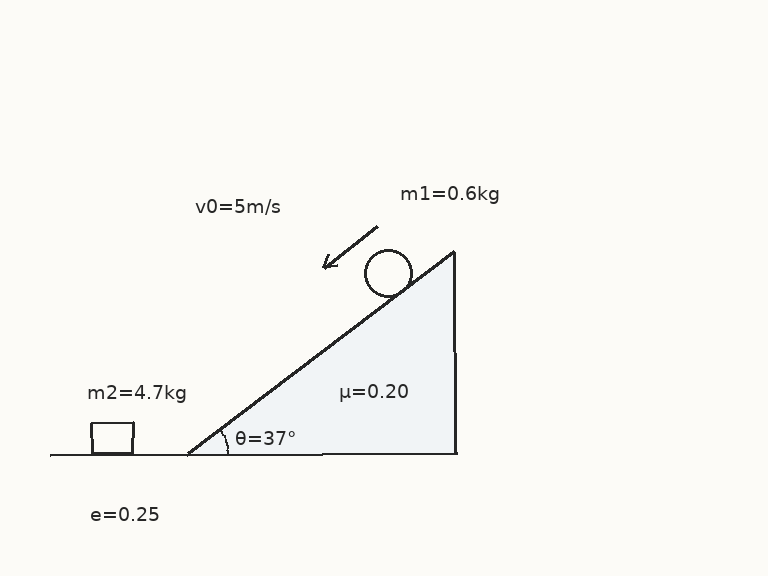ball: (362, 247, 414, 299)
block: (89, 420, 135, 455)
ramp: (186, 250, 457, 455)
